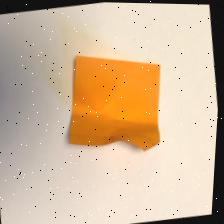paper: (48, 29, 189, 182)
